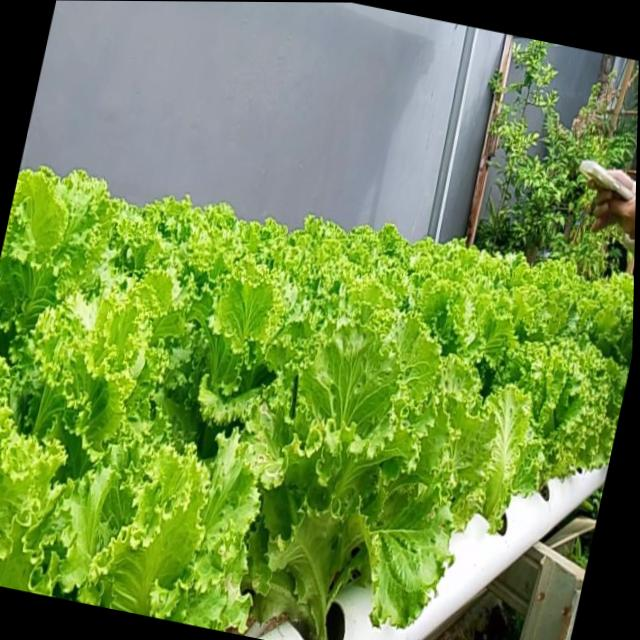Mature: (0, 162, 631, 640), (224, 331, 426, 627), (459, 301, 619, 508)
